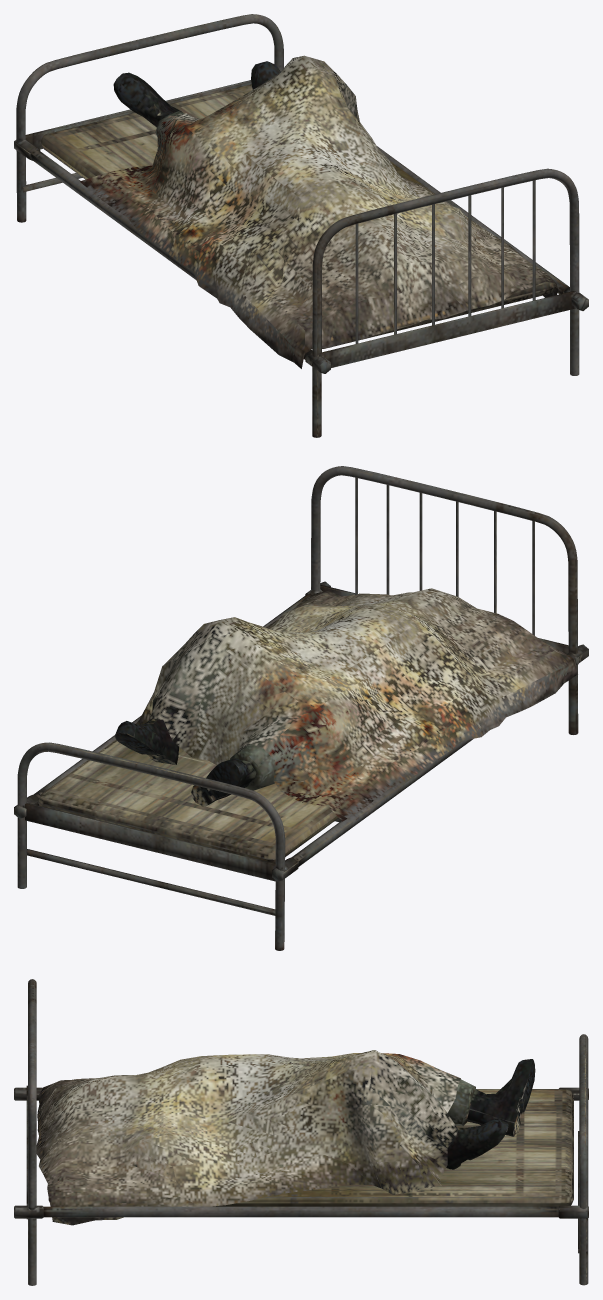
The model's file is BODY BED DEAD.fbx.
3 views of the same model, one above another, from view 1: azimuth 30°, elevation 25°; view 2: azimuth 150°, elevation 25°; view 3: azimuth 270°, elevation 25° (orthographic). The views are drawn at different scales.
Visible parts, largest first — view 1: BODY BED DEAD; view 2: BODY BED DEAD; view 3: BODY BED DEAD.
Part boxes in pixels (x1=…): BODY BED DEAD: x1=14, y1=14, x2=588, y2=437; BODY BED DEAD: x1=14, y1=466, x2=588, y2=950; BODY BED DEAD: x1=14, y1=979, x2=588, y2=1285.
Size of the model in its own units: 379 by 280 by 730.
